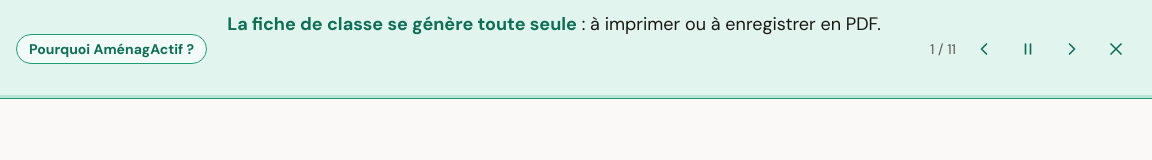
Test case: bandeau d'avantages › pause puis reprise
What coordinates should you click on to do the following:
click the button named "Mettre en pause"
I would click on:
 (1028, 49)
Its box is [1008,29,1048,69].
Wait 60000 ms
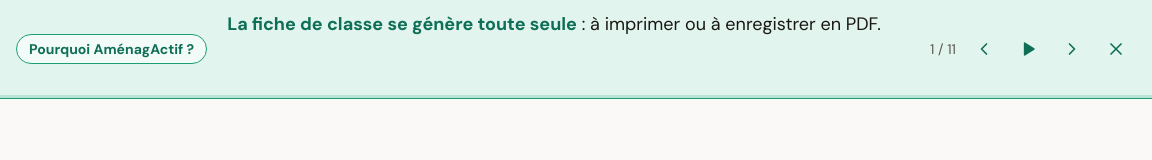
Expected: the text "La fiche de classe se génère toute seule" is shown, [227,12,577,36]
What coordinates should you click on to do the following:
click the button named "Reprendre le défilement"
I would click on:
 (1028, 49)
Its box is [1008,29,1048,69].
Wait 10200 ms
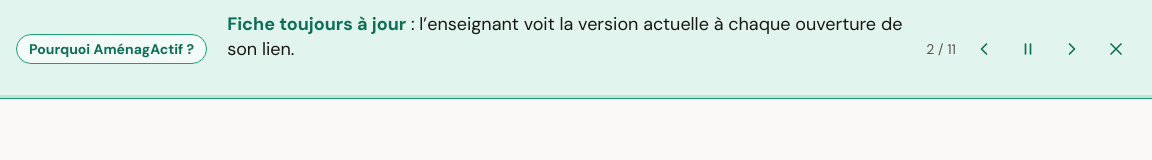
Result: the text "La fiche de classe se génère toute seule" is gone
